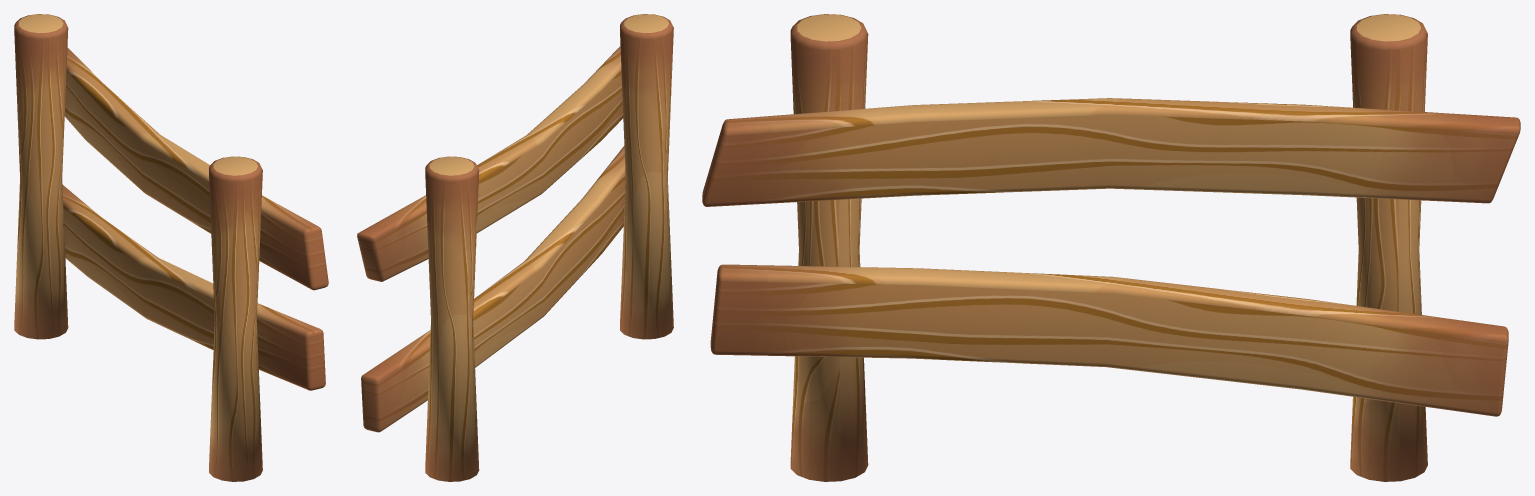
File: fence2.fbx
The picture shows the model from 3 angles, left to right: view 1: azimuth 30°, elevation 25°; view 2: azimuth 150°, elevation 25°; view 3: azimuth 270°, elevation 25°; orthographic projection. The views are drawn at different scales.
Parts seen in each view (by area): view 1: Cube.003; view 2: Cube.003; view 3: Cube.003.
Part boxes in pixels (left/top/right/bottom): Cube.003: left=14, top=14, right=328, bottom=481; Cube.003: left=357, top=14, right=673, bottom=481; Cube.003: left=702, top=14, right=1520, bottom=481.
Size of the model in its own units: 18.71 by 73.49 by 125.
